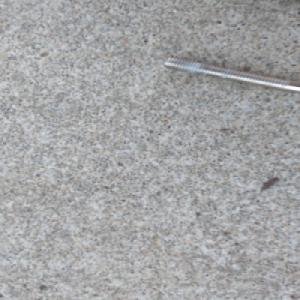ClampPart: (160, 53, 300, 95)
